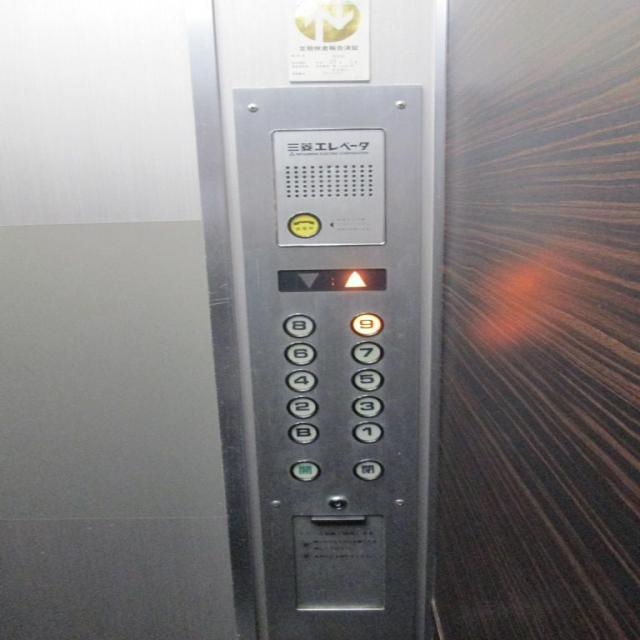1: (348, 419, 385, 444)
2: (283, 393, 319, 419)
3: (348, 393, 385, 419)
4: (282, 366, 318, 394)
5: (347, 366, 385, 393)
6: (281, 339, 317, 367)
7: (347, 338, 385, 366)
8: (280, 312, 316, 339)
9: (347, 310, 384, 338)
B: (283, 420, 319, 446)
text_close door: (349, 457, 385, 482)
text_oepn: (286, 458, 322, 483)
